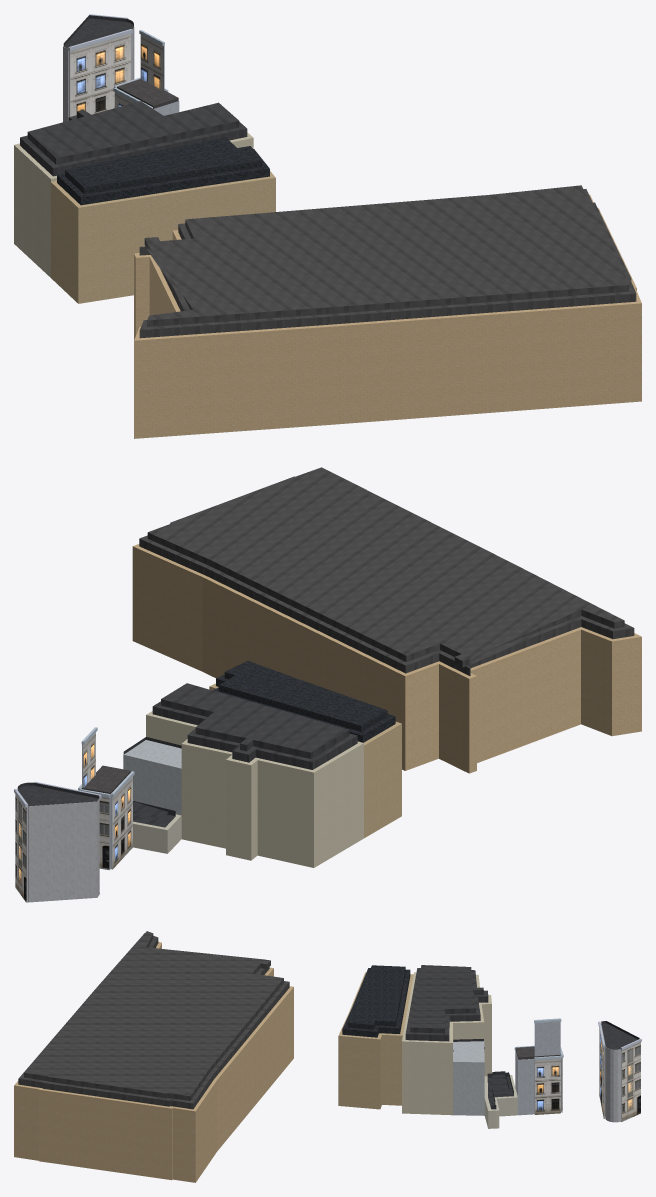
3 views of the same model, one above another, from view 1: azimuth 30°, elevation 25°; view 2: azimuth 150°, elevation 25°; view 3: azimuth 270°, elevation 25° (orthographic). The views are drawn at different scales.
Visible parts, largest first — view 1: bldg_498882478, bldg_498882478_roof_b, bldg_498882460, bldg_498882461_roof_b, bldg_498882478_roof_a, bldg_498882460_roof_b, bldg_498872918_facade0, bldg_498882461, bldg_498882460_roof_a, bldg_498882461_roof_a, bldg_498882469_facade1, bldg_498872918_roof (+2 smaller); view 2: bldg_498882478_roof_b, bldg_498882478, bldg_498882461, bldg_498872918, bldg_498882461_roof_b, bldg_498882478_roof_a, bldg_498882460_roof_b, bldg_498882460, bldg_498882464, bldg_498882461_roof_a, bldg_498882467_facade1, bldg_498882465 (+6 smaller); view 3: bldg_498882478_roof_b, bldg_498882478, bldg_498882461, bldg_498882460, bldg_498882461_roof_b, bldg_498882478_roof_a, bldg_498882460_roof_b, bldg_498882464, bldg_498882467_facade2, bldg_498872918_facade1, bldg_498882461_roof_a, bldg_498872918 (+7 smaller).
Part boxes in pixels (left/top/right/bottom): bldg_498882478: left=134, top=194, right=641, bottom=438; bldg_498882478_roof_b: left=144, top=185, right=629, bottom=326; bldg_498882460: left=51, top=171, right=275, bottom=303; bldg_498882461_roof_b: left=27, top=101, right=239, bottom=164; bldg_498882478_roof_a: left=139, top=189, right=636, bottom=338; bldg_498882460_roof_b: left=65, top=137, right=262, bottom=193; bldg_498872918_facade0: left=68, top=29, right=132, bottom=116; bldg_498882461: left=14, top=132, right=253, bottom=277; bldg_498882460_roof_a: left=57, top=149, right=269, bottom=205; bldg_498882461_roof_a: left=20, top=115, right=247, bottom=176; bldg_498882469_facade1: left=139, top=30, right=164, bottom=90; bldg_498872918_roof: left=63, top=15, right=133, bottom=48; bldg_498882478_roof_b: left=147, top=467, right=624, bottom=667; bldg_498882478: left=132, top=544, right=641, bottom=773; bldg_498882461: left=146, top=711, right=363, bottom=867; bldg_498872918: left=28, top=798, right=99, bottom=902; bldg_498882461_roof_b: left=161, top=683, right=349, bottom=758; bldg_498882478_roof_a: left=139, top=535, right=634, bottom=675; bldg_498882460_roof_b: left=219, top=661, right=387, bottom=731; bldg_498882460: left=209, top=683, right=401, bottom=838; bldg_498882464: left=123, top=740, right=181, bottom=815; bldg_498882461_roof_a: left=152, top=701, right=357, bottom=769; bldg_498882467_facade1: left=110, top=771, right=134, bottom=869; bldg_498882465: left=133, top=814, right=181, bottom=853; bldg_498882478_roof_b: left=24, top=931, right=283, bottom=1100; bldg_498882478: left=14, top=941, right=293, bottom=1182; bldg_498882461: left=402, top=972, right=491, bottom=1115; bldg_498882460: left=338, top=972, right=413, bottom=1109; bldg_498882461_roof_b: left=410, top=965, right=483, bottom=1033; bldg_498882478_roof_a: left=18, top=933, right=289, bottom=1109; bldg_498882460_roof_b: left=347, top=965, right=405, bottom=1029; bldg_498882464: left=453, top=1041, right=484, bottom=1115; bldg_498882467_facade2: left=534, top=1055, right=561, bottom=1114; bldg_498872918_facade1: left=620, top=1038, right=641, bottom=1121; bldg_498882461_roof_a: left=405, top=968, right=488, bottom=1041; bldg_498872918: left=601, top=1024, right=620, bottom=1122.
Bounding box in the file's own units: 65.89 × 16.38 × 99.9.
Materials: 18 (14 with a texture image).
